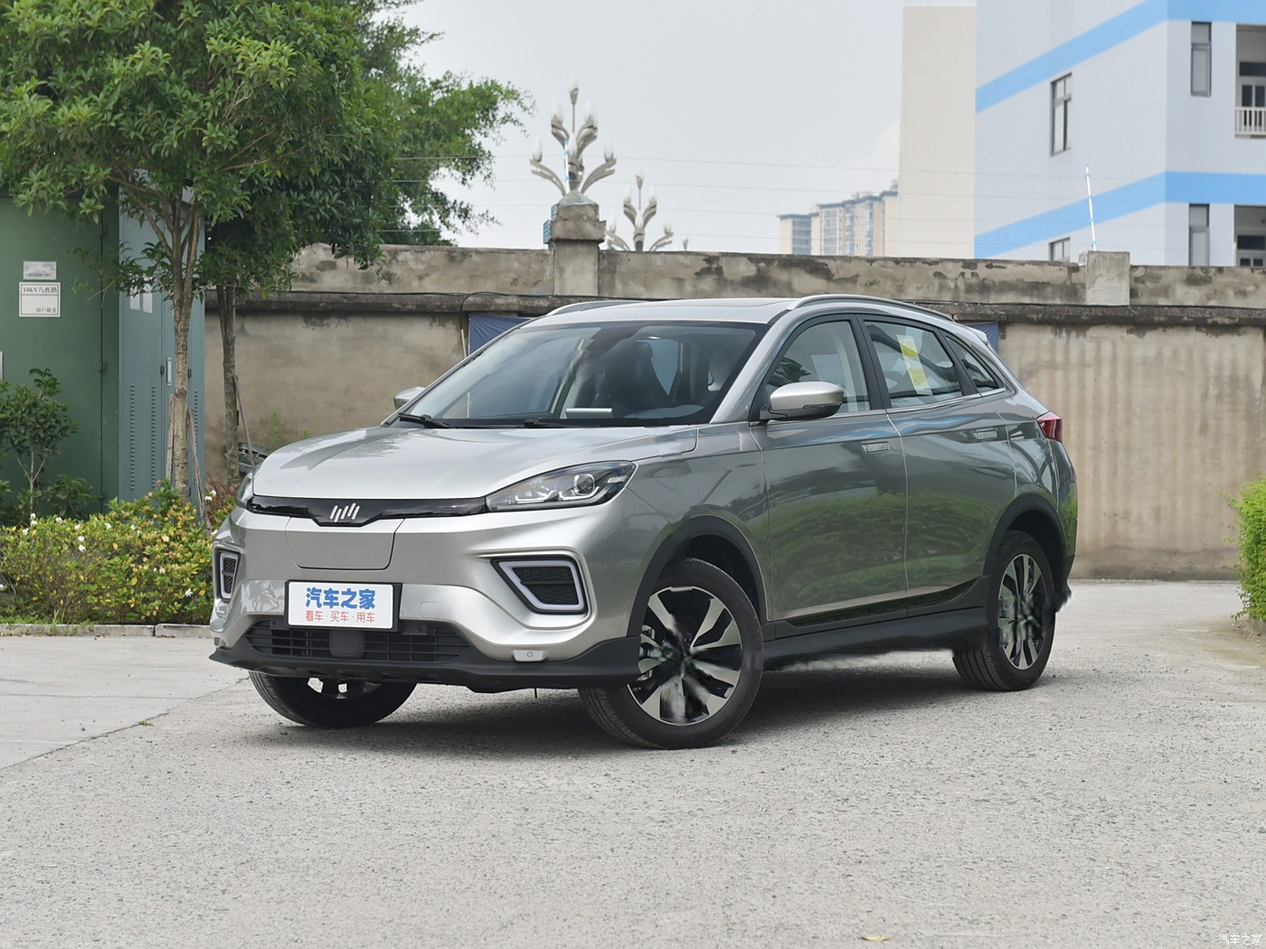WELTMEISTER: (330, 504, 359, 521)
